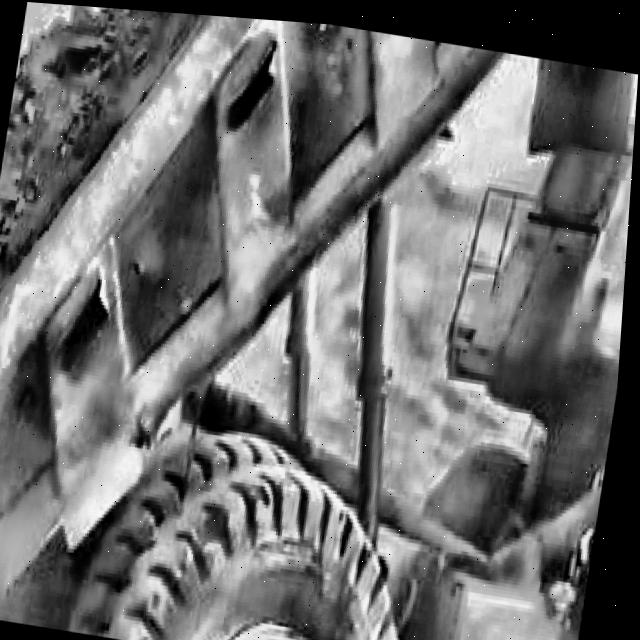dump_truck: (0, 13, 639, 640)
